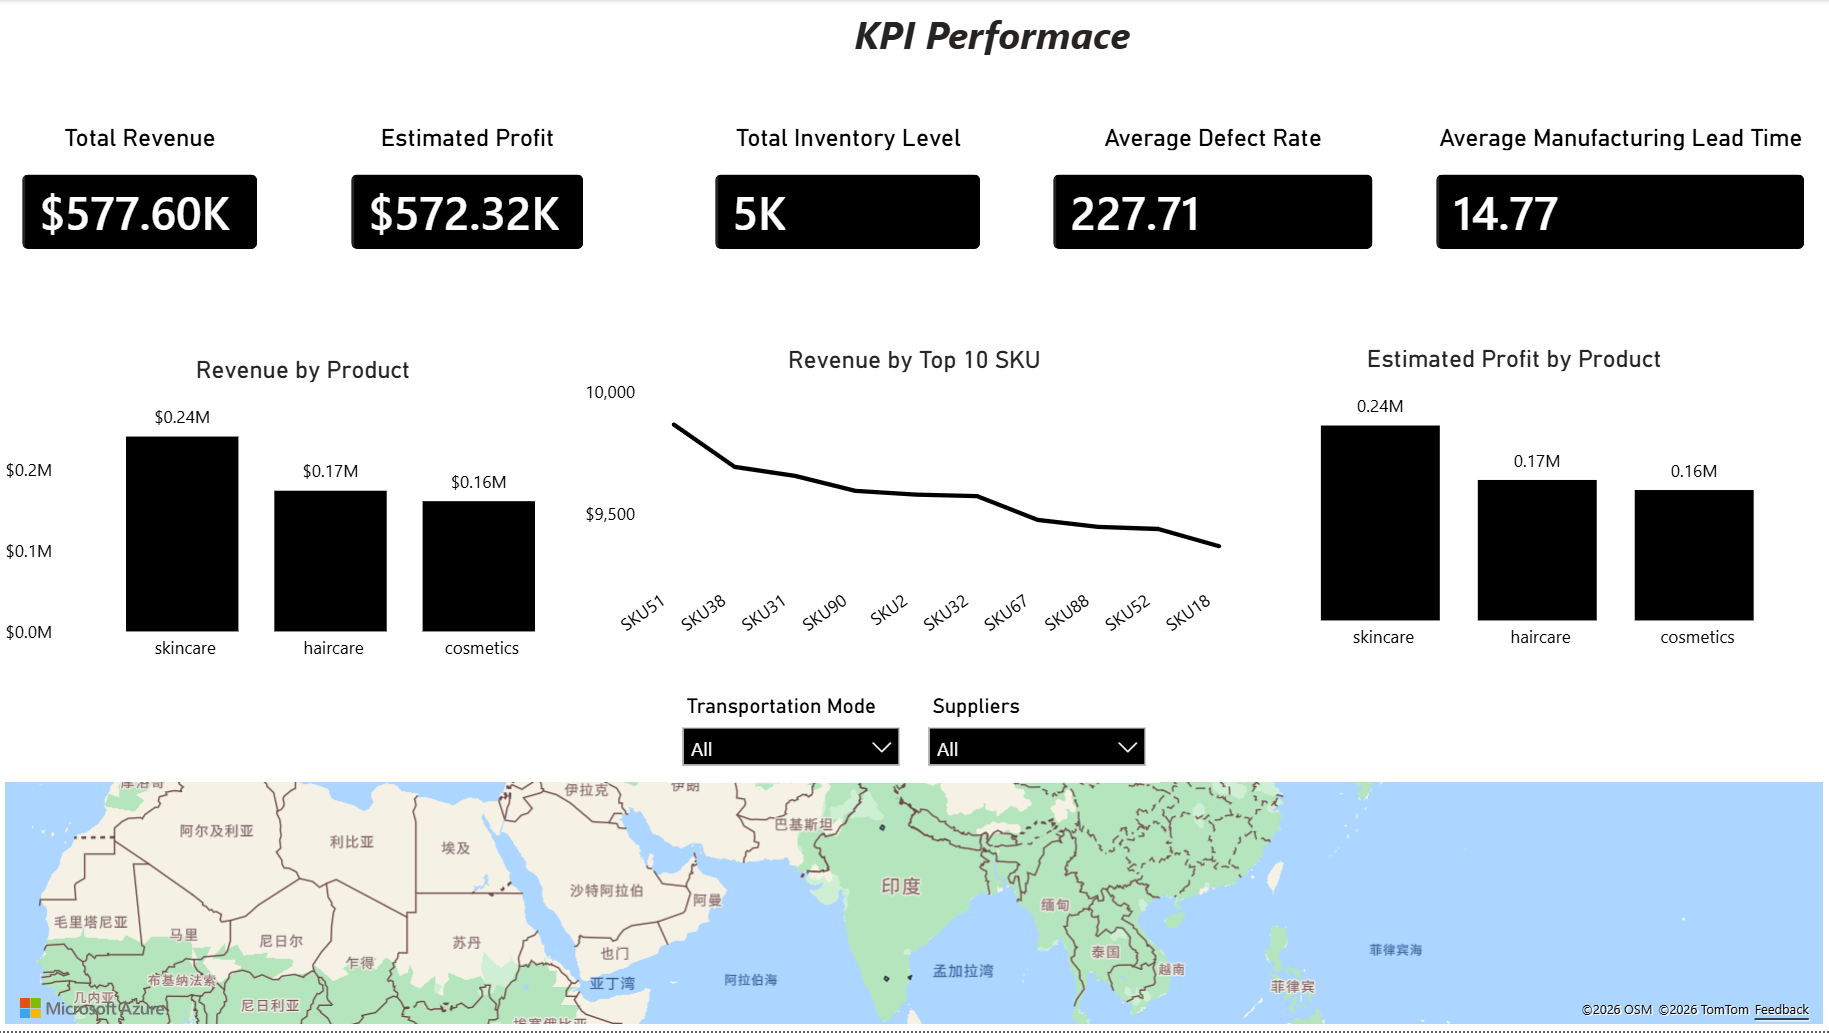

The page's visual inventory and layout, read from the dashboard file:
{"tool":"powerbi","page":{"name":"Executive Overview","canvas":[1280,720],"ordinal":0},"visuals":[{"type":"cardVisual","title":"Total Revenue","fields":{"Data":["Sum(supplychain_db supply.Revenue)"]},"box":[0,85.7,198.3,105.4],"z":0},{"type":"cardVisual","title":"Estimated Profit","fields":{"Data":["supplychain_db supply.Profit"]},"box":[229.7,85.7,196.3,105.4],"z":1},{"type":"cardVisual","title":"Average Manufacturing Lead Time","fields":{"Data":["Avg(supplychain_db supply.Manufacturing_lead_time)"]},"box":[988.1,85.7,291.9,105.4],"z":2},{"type":"cardVisual","title":"Average Defect Rate","fields":{"Data":["Sum(supplychain_db supply.Defect_dates)"]},"box":[720.5,85.7,257.2,105.4],"z":3},{"type":"cardVisual","title":"Total Inventory Level","fields":{"Data":["Sum(supplychain_db supply.Stock_level)"]},"box":[484.3,85.7,219.9,105.4],"z":4},{"type":"textbox","box":[592.9,0,222.5,67.4],"z":5},{"type":"columnChart","title":"Revenue by Product","fields":{"Y":["Sum(supplychain_db supply.Revenue)"],"Category":["supplychain_db supply.Product_type"]},"box":[0,248,426,223.1],"z":6},{"type":"columnChart","title":"Estimated Profit by Product","fields":{"Category":["supplychain_db supply.Product_type"],"Y":["supplychain_db supply.Profit"]},"box":[838.3,240.2,441.7,223.1],"z":7},{"type":"azureMap","fields":{"Category":["supplychain_db supply.Location"]},"box":[0,541.2,1280,178.7],"z":8},{"type":"lineChart","title":"Revenue by Top 10 SKU","fields":{"Y":["Sum(supplychain_db supply.Revenue)"],"Category":["supplychain_db supply.SKU"]},"box":[405.1,240.8,469.9,222.5],"z":9},{"type":"slicer","fields":{"Values":["supplychain_db supply.Transportation_models"]},"box":[467.9,479.7,172.1,67.4],"z":10},{"type":"slicer","fields":{"Values":["supplychain_db supply.Supplier_Name"]},"box":[640,479.7,172.1,67.4],"z":11}]}

Visuals, with their boxes in screenshot pixels (x1, y1, x2, y2), scaled from the page's 1280x720 canvas onto the 1829x1033 screenshot:
"Total Revenue" cardVisual: (0,123,283,274)
"Estimated Profit" cardVisual: (328,123,609,274)
"Average Manufacturing Lead Time" cardVisual: (1412,123,1828,274)
"Average Defect Rate" cardVisual: (1030,123,1397,274)
"Total Inventory Level" cardVisual: (692,123,1006,274)
textbox: (847,0,1165,97)
"Revenue by Product" columnChart: (0,356,609,676)
"Estimated Profit by Product" columnChart: (1198,345,1828,665)
azureMap - supplychain_db supply.Location: (0,776,1828,1032)
"Revenue by Top 10 SKU" lineChart: (579,345,1250,665)
slicer - supplychain_db supply.Transportation_models: (669,688,914,785)
slicer - supplychain_db supply.Supplier_Name: (914,688,1160,785)
